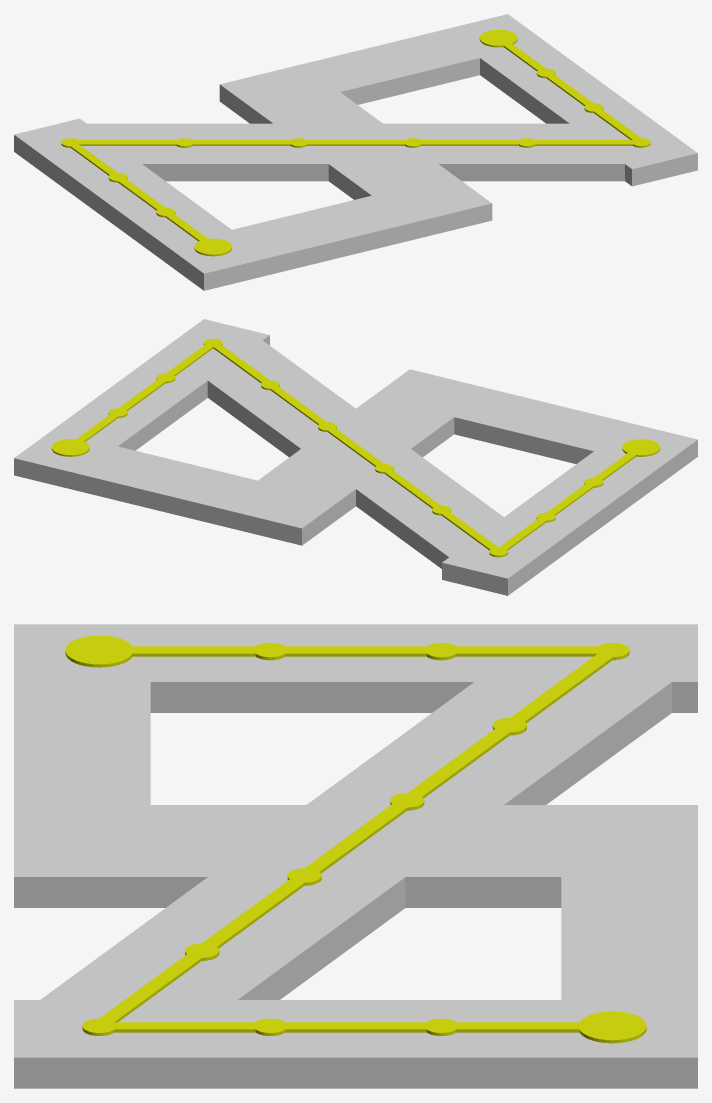
The model's file is CartMode.fbx.
The picture shows the model from 3 angles, top to bottom: view 1: azimuth 30°, elevation 25°; view 2: azimuth 150°, elevation 25°; view 3: azimuth 270°, elevation 25°; orthographic projection. The views are drawn at different scales.
Parts seen in each view (by area): view 1: DiagonalCenter, VerticalCenter, VerticalRight, VerticalLeft, HorizontalRight, HorizontalLeft, CenterPath, LeftPath, RightPath, RightEnd, LeftEnd; view 2: DiagonalCenter, VerticalCenter, VerticalRight, VerticalLeft, HorizontalRight, HorizontalLeft, CenterPath, LeftPath, RightPath, RightEnd, LeftEnd; view 3: DiagonalCenter, VerticalCenter, VerticalLeft, VerticalRight, HorizontalRight, HorizontalLeft, CenterPath, LeftPath, RightPath, RightEnd, LeftEnd.
Part boxes in pixels (bbox=[...]): DiagonalCenter: bbox=[87, 123, 624, 181]; VerticalCenter: bbox=[219, 64, 492, 240]; VerticalRight: bbox=[14, 118, 269, 290]; VerticalLeft: bbox=[442, 14, 697, 186]; HorizontalRight: bbox=[207, 186, 450, 282]; HorizontalLeft: bbox=[262, 24, 504, 104]; CenterPath: bbox=[77, 140, 640, 145]; LeftPath: bbox=[495, 37, 642, 142]; RightPath: bbox=[67, 141, 215, 246]; RightEnd: bbox=[194, 238, 232, 256]; LeftEnd: bbox=[479, 29, 517, 47]; DiagonalCenter: bbox=[172, 335, 525, 568]; VerticalCenter: bbox=[219, 369, 490, 545]; VerticalRight: bbox=[442, 423, 697, 595]; VerticalLeft: bbox=[14, 319, 269, 483]; HorizontalRight: bbox=[413, 379, 660, 464]; HorizontalLeft: bbox=[47, 446, 260, 535]; CenterPath: bbox=[210, 342, 502, 552]; LeftPath: bbox=[71, 342, 215, 447]; RightPath: bbox=[495, 446, 640, 552]; RightEnd: bbox=[622, 439, 660, 456]; LeftEnd: bbox=[51, 439, 89, 456]; DiagonalCenter: bbox=[29, 636, 685, 1045]; VerticalCenter: bbox=[14, 805, 697, 907]; VerticalLeft: bbox=[14, 1000, 697, 1088]; VerticalRight: bbox=[14, 624, 697, 712]; HorizontalRight: bbox=[14, 653, 150, 809]; HorizontalLeft: bbox=[561, 877, 697, 1028]; CenterPath: bbox=[92, 648, 619, 1026]; LeftPath: bbox=[99, 1022, 612, 1032]; RightPath: bbox=[99, 646, 612, 656]; RightEnd: bbox=[65, 635, 133, 667]; LeftEnd: bbox=[579, 1011, 646, 1043].
Size of the model in its own units: 3000 by 110 by 2000.
